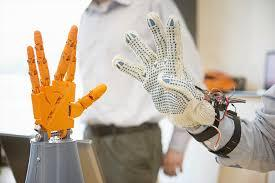gloves: (111, 11, 214, 127)
